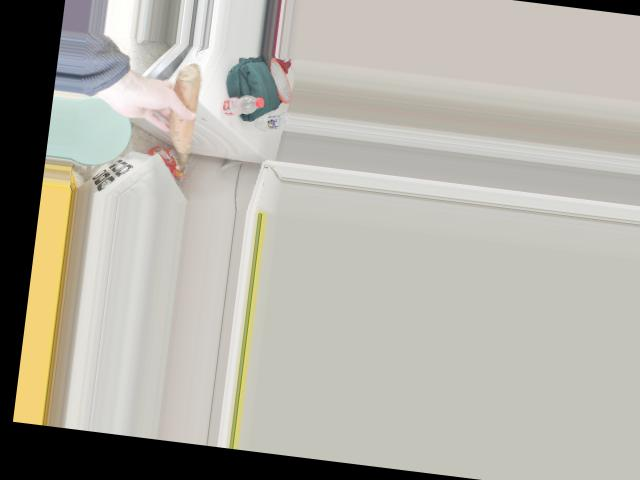sweet_potato: (165, 70, 201, 158)
